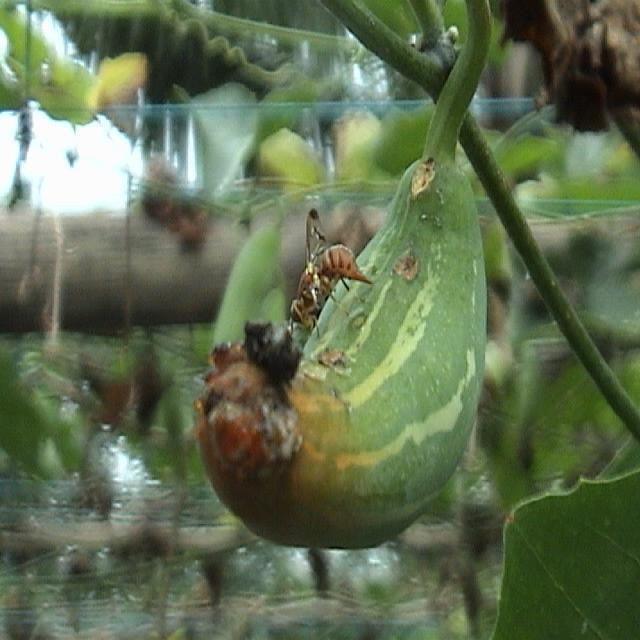Fruit fly: (194, 322, 342, 528), (286, 208, 378, 342)
